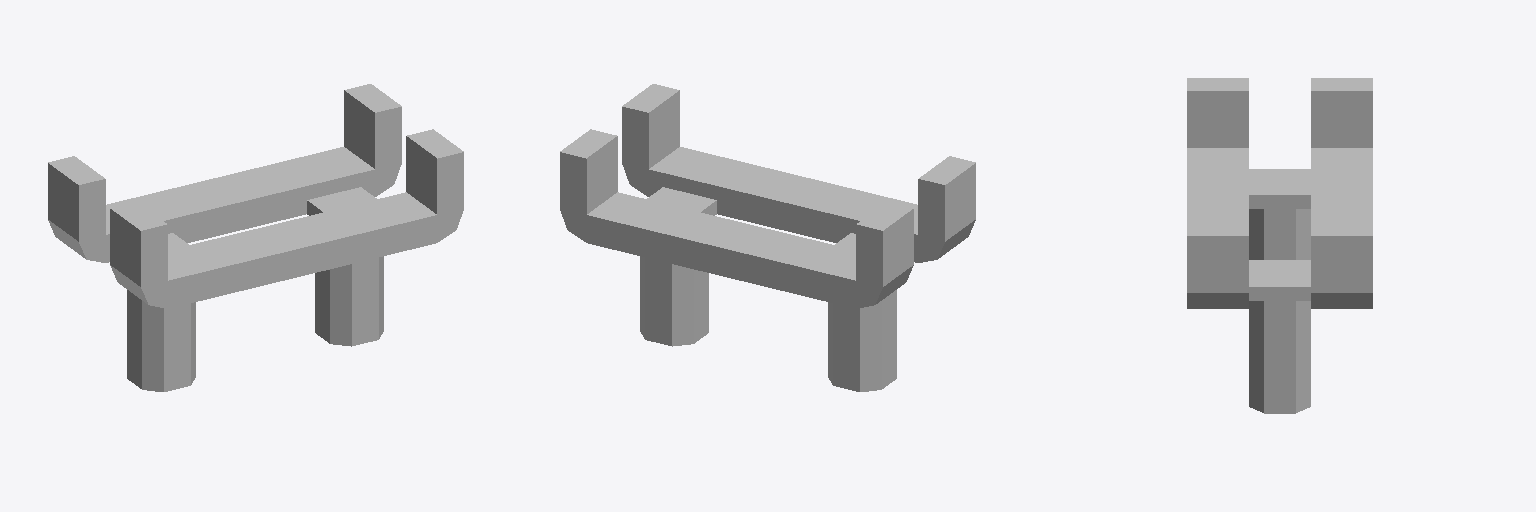
Rendered from support-two-top-double.obj.
3 renders of one model, left to right at view 1: azimuth 30°, elevation 25°; view 2: azimuth 150°, elevation 25°; view 3: azimuth 270°, elevation 25°, orthographic.
Visible parts, largest first — view 1: support-two-top-double; view 2: support-two-top-double; view 3: support-two-top-double.
Boxes of the visible parts, x1,y1,x2,y2 form: support-two-top-double: [48, 84, 463, 391]; support-two-top-double: [560, 84, 975, 391]; support-two-top-double: [1187, 78, 1372, 413].
Size of the model in its own units: 1.2 by 0.7 by 0.6.